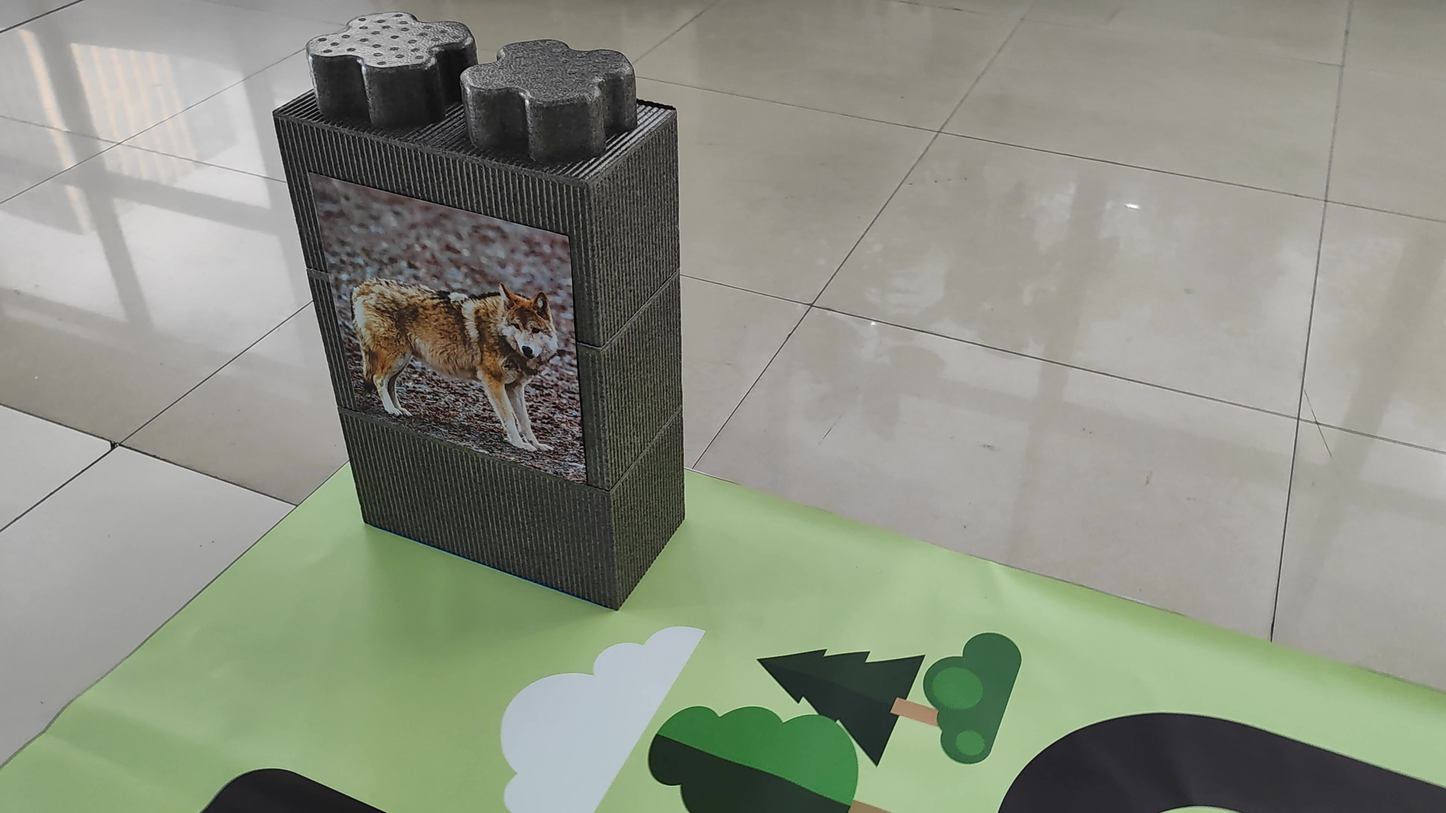wolf: (328, 222, 580, 465)
